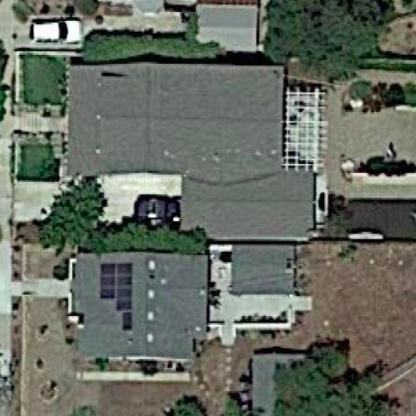car: (27, 13, 88, 50)
solar_panel: (94, 259, 145, 337)
